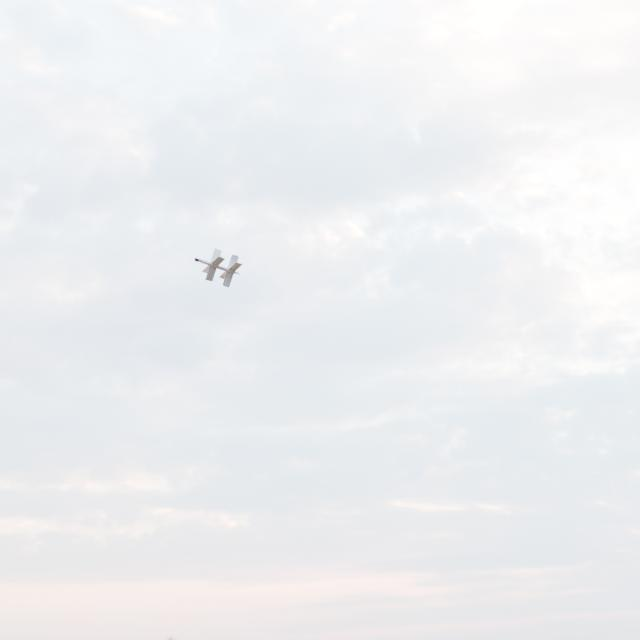Airaplan: (194, 248, 242, 288)
